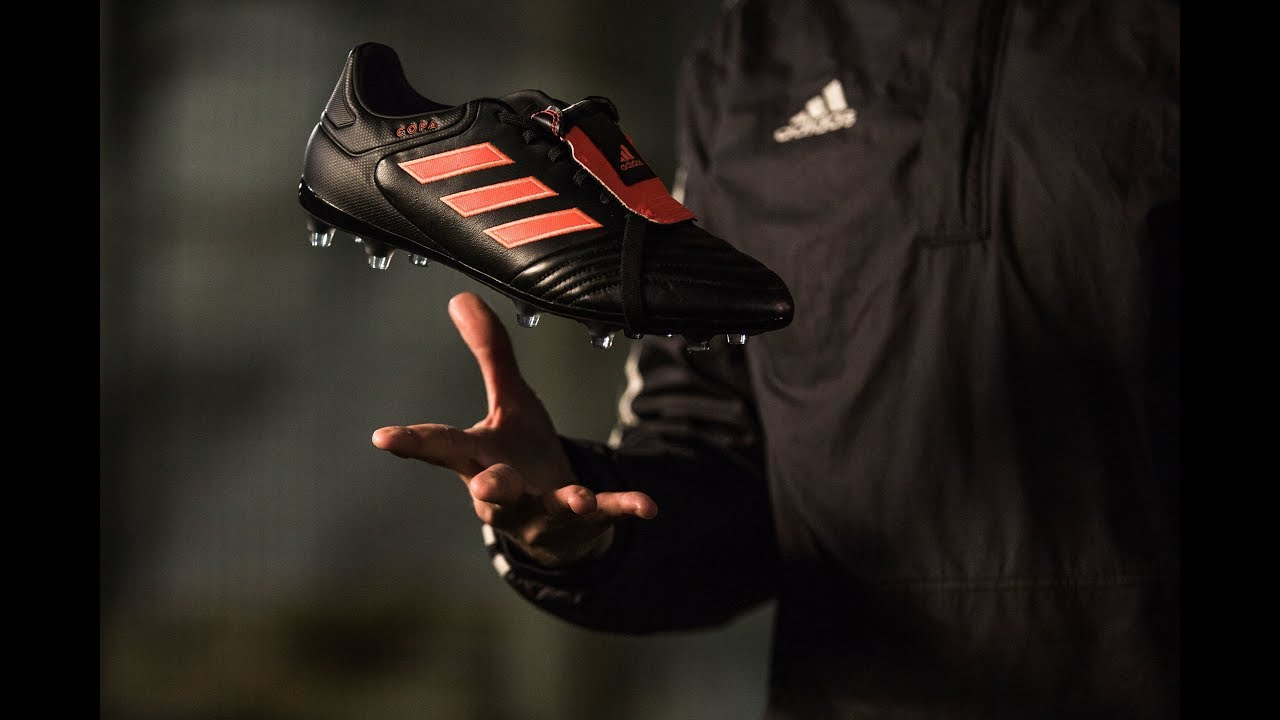football boots: (297, 43, 794, 351)
